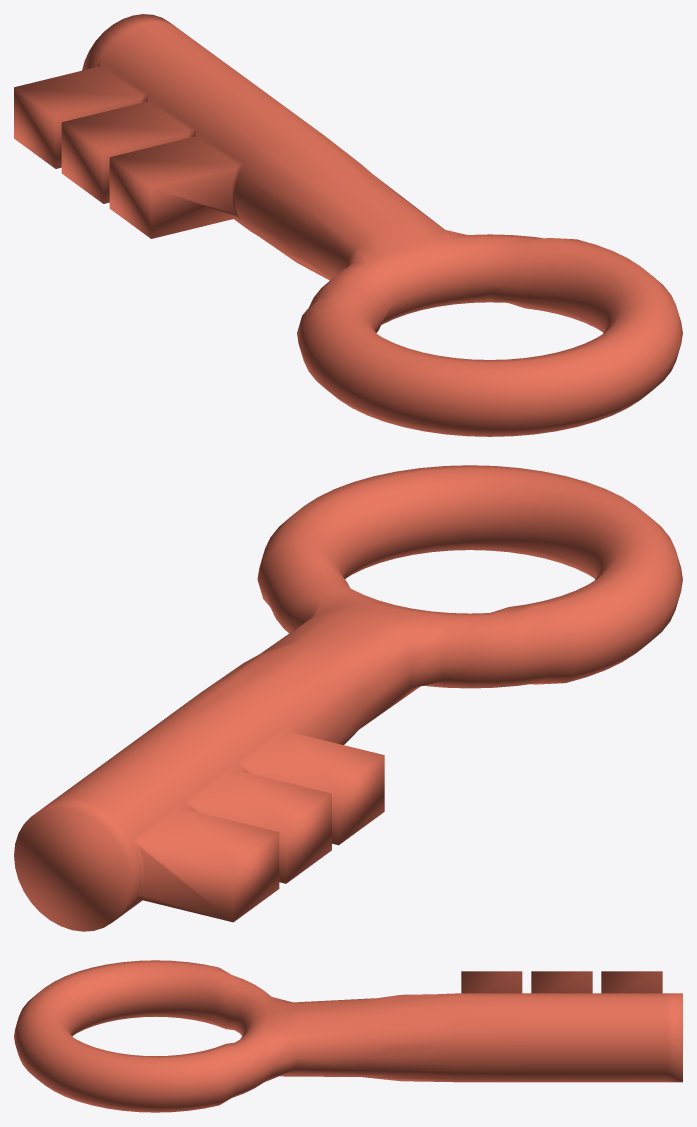
Rendered from key.glb.
3 renders of one model, top to bottom at view 1: azimuth 30°, elevation 25°; view 2: azimuth 150°, elevation 25°; view 3: azimuth 270°, elevation 25°, orthographic. The views are drawn at different scales.
Visible parts, largest first — view 1: Cylinder; view 2: Cylinder; view 3: Cylinder.
Part boxes in pixels (<box>): Cylinder: <box>14,14,682,436</box>; Cylinder: <box>14,465,682,931</box>; Cylinder: <box>14,960,682,1112</box>.
Bounding box in the file's own units: 3.52 × 1.1 × 8.3.
